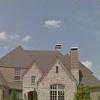Chimney: (53, 38, 86, 70)
